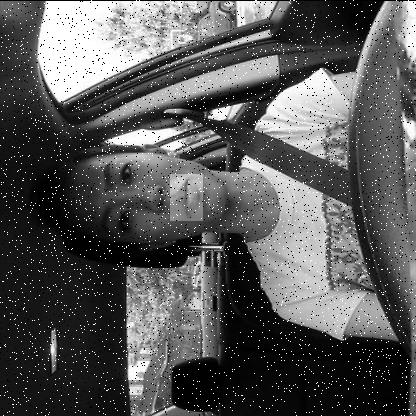seatbelt: (20, 124, 349, 264)
